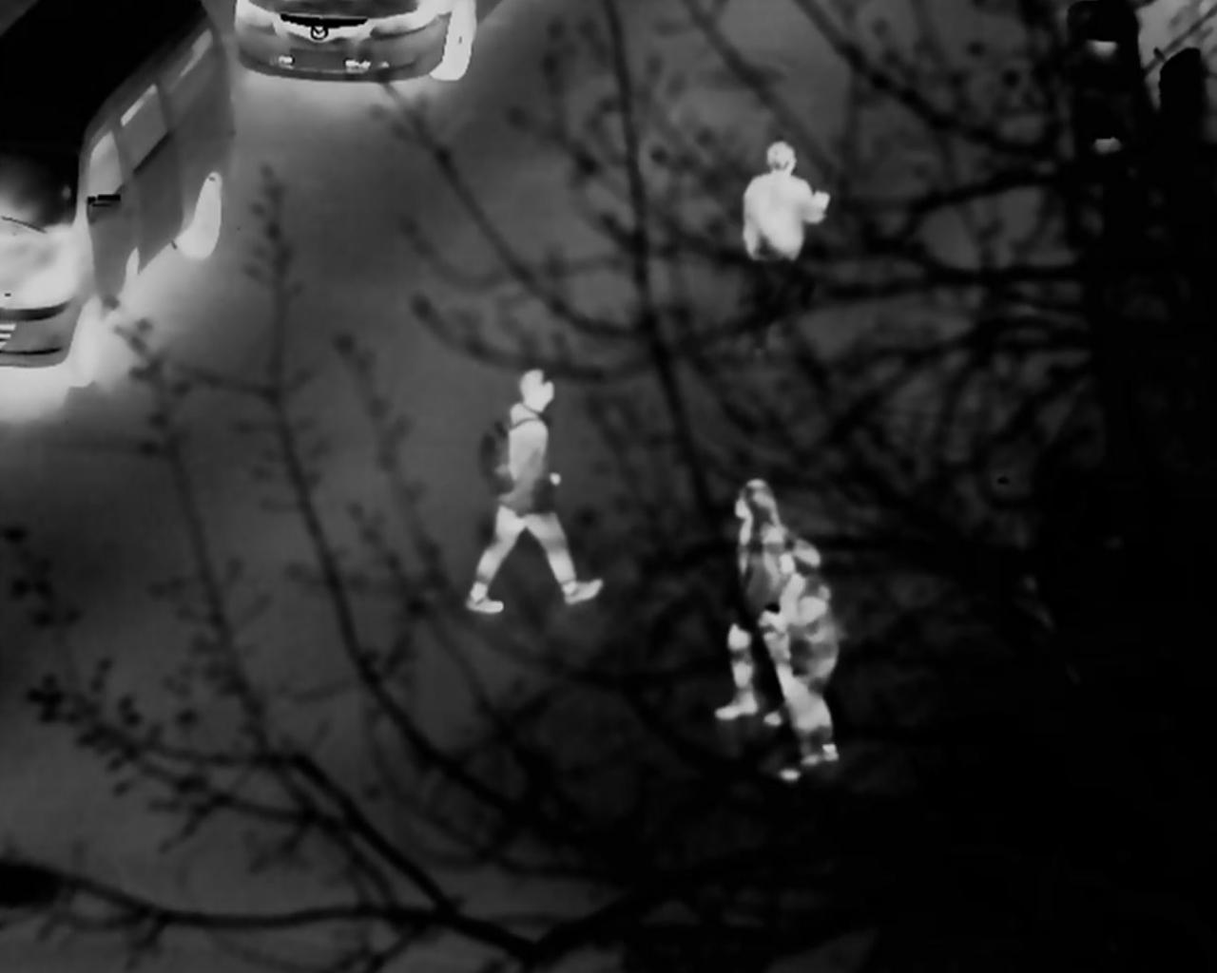person: (484, 367, 598, 622), (766, 536, 836, 775), (728, 471, 779, 723), (750, 131, 823, 283)
